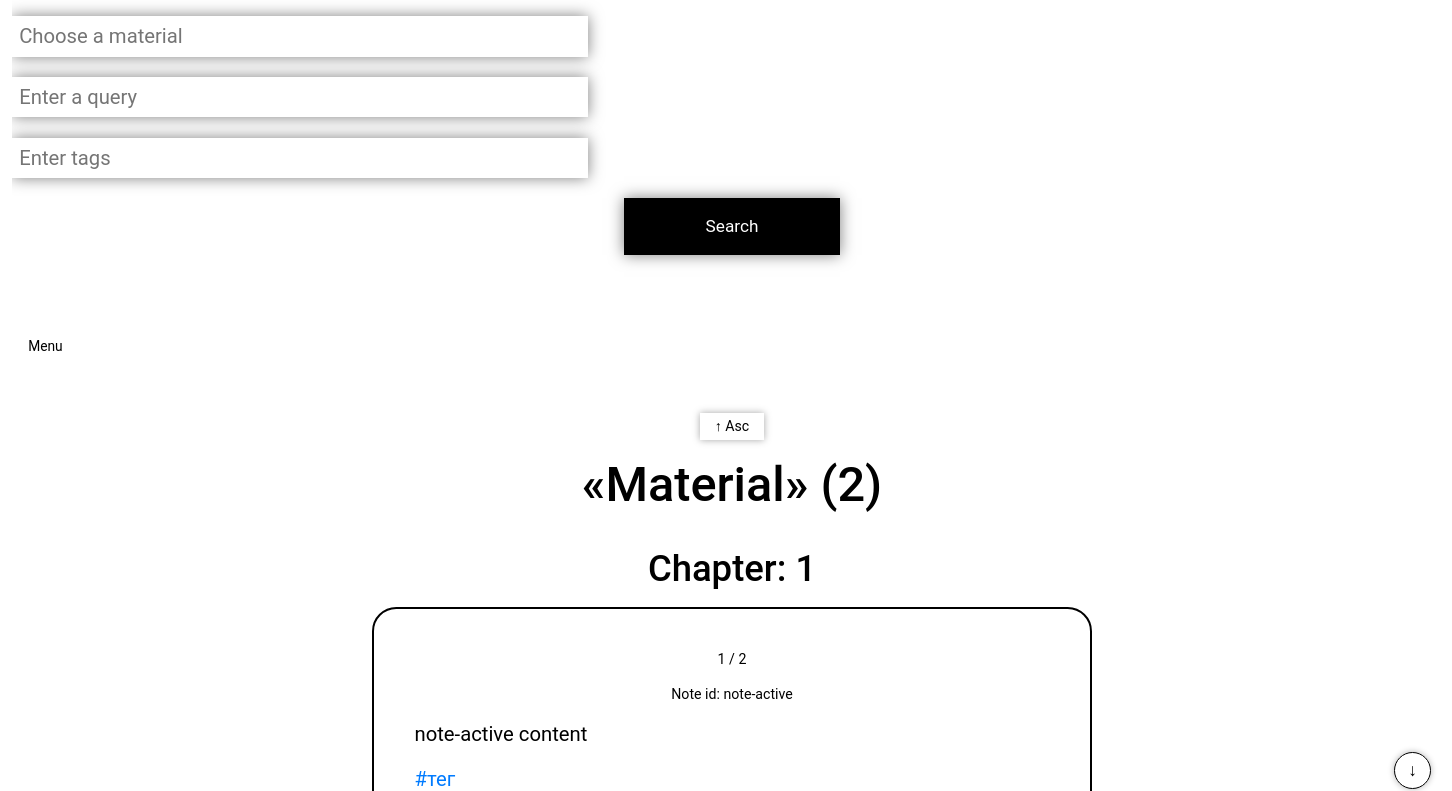
Scenario: SearchNotesPage search request › normalizes the typed tags before searching and says so
Type "c++ #Тег" into the field with placeholder "Enter tags" at (300, 158), box x1=12 y1=138 x2=588 y2=178
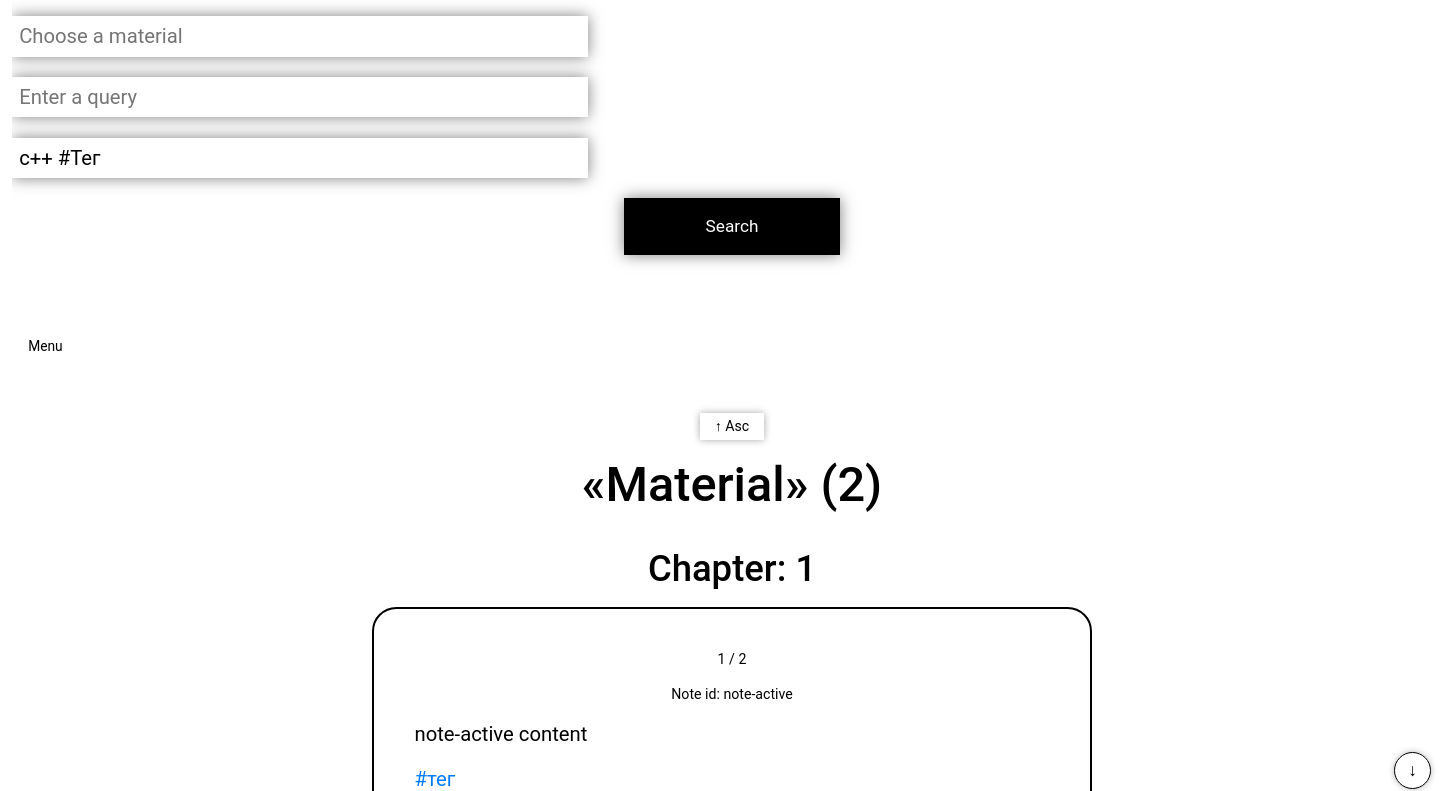
Submit the form, box x1=12 y1=16 x2=840 y2=255
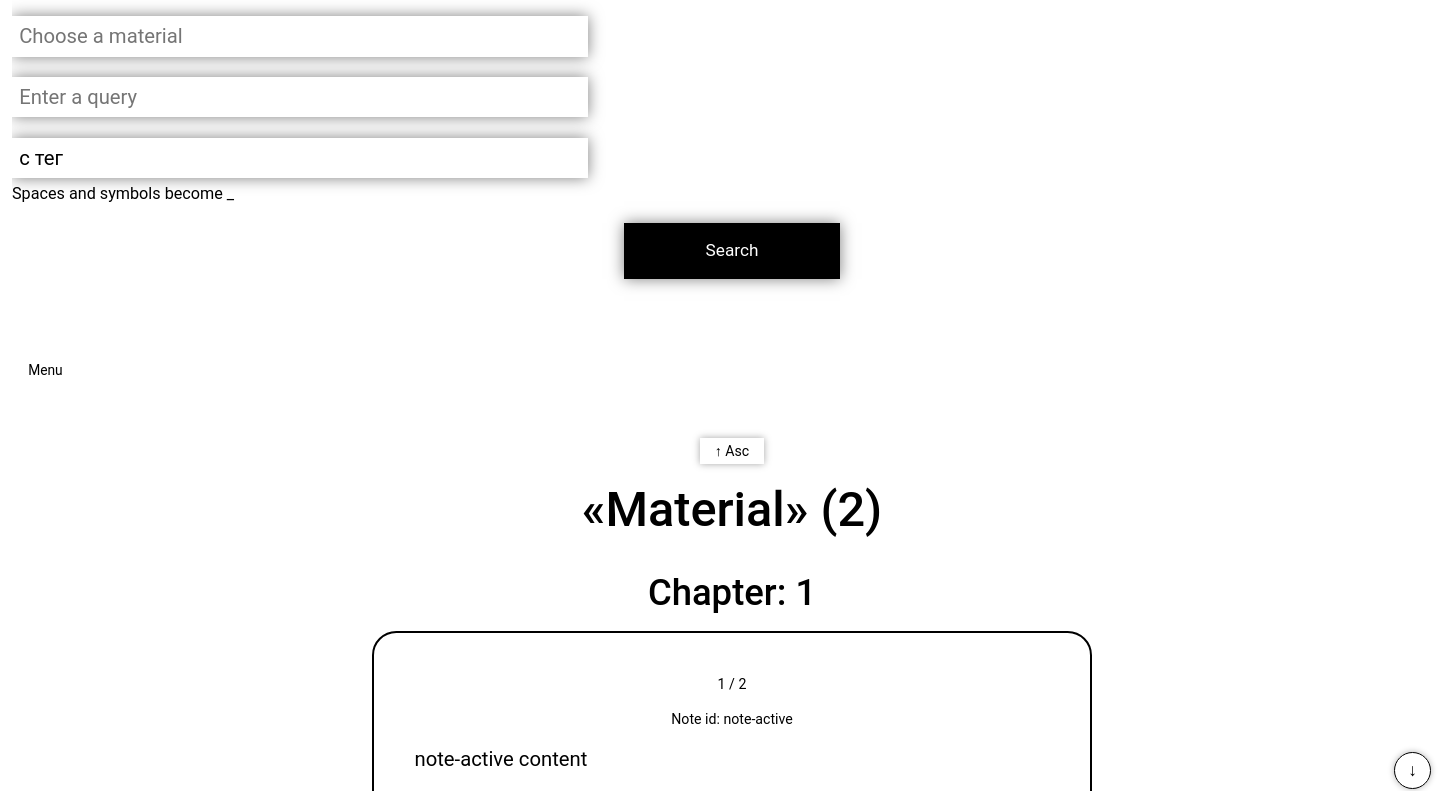
Expected: the text "Spaces and symbols become _" is shown, x1=12 y1=184 x2=234 y2=203
